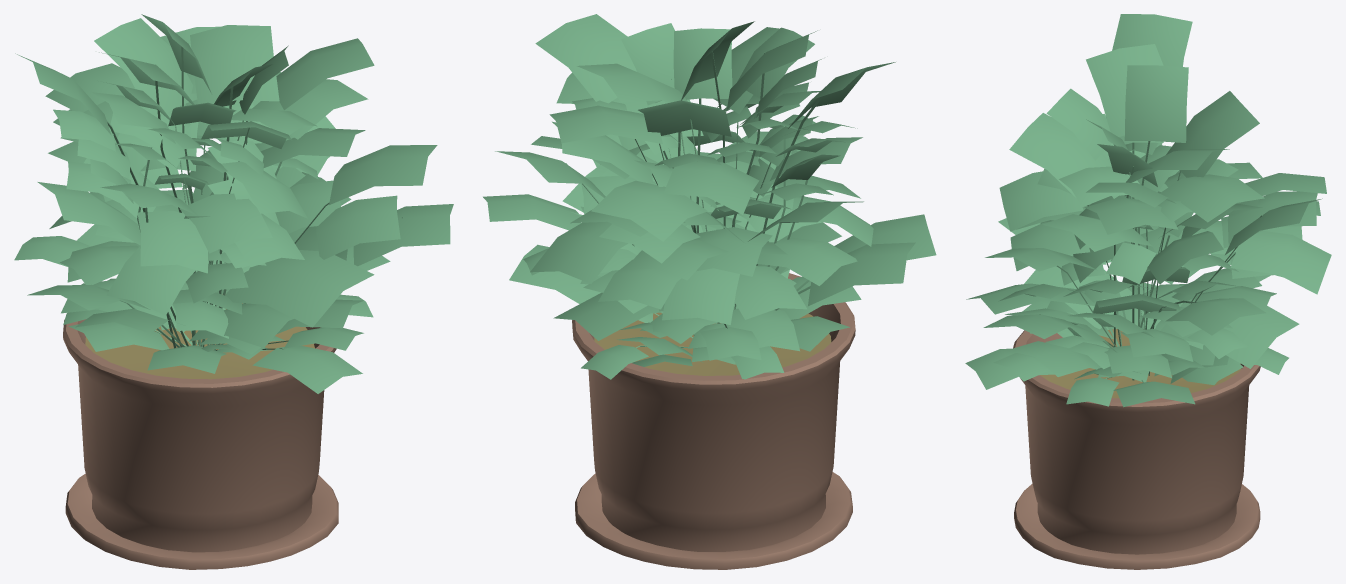
File: Plant01.FBX
The picture shows the model from 3 angles, left to right: view 1: azimuth 30°, elevation 25°; view 2: azimuth 150°, elevation 25°; view 3: azimuth 270°, elevation 25°; orthographic projection. The views are drawn at different scales.
Parts seen in each view (by area): view 1: Plant01; view 2: Plant01; view 3: Plant01.
Part boxes in pixels (x1,y1,x2,y2): Plant01: (14,14,453,569); Plant01: (483,14,936,569); Plant01: (965,14,1331,569).
Bounding box in the file's own units: 116 × 144 × 108.
